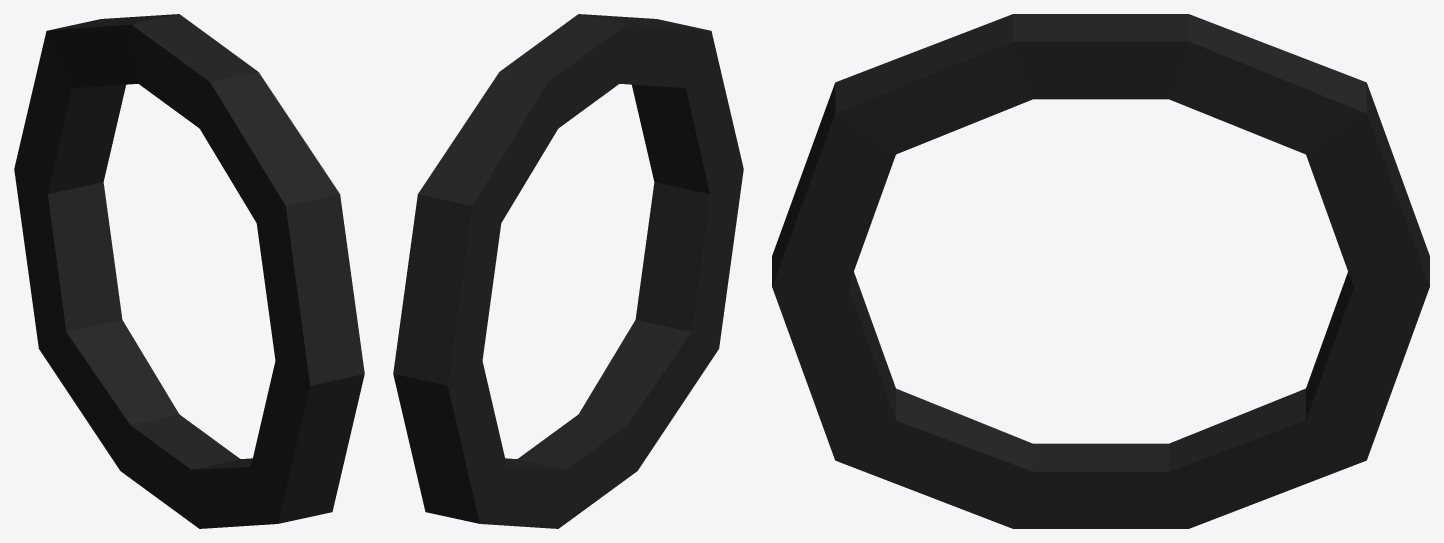
Rendered from Lamp Overlay Metal.obj.
3 views of the same model, side by side, from view 1: azimuth 30°, elevation 25°; view 2: azimuth 150°, elevation 25°; view 3: azimuth 270°, elevation 25° (orthographic). The views are drawn at different scales.
Parts seen in each view (by area): view 1: Overlay_Metal; view 2: Overlay_Metal; view 3: Overlay_Metal.
Part boxes in pixels (x1=…): Overlay_Metal: x1=14, y1=14, x2=364, y2=528; Overlay_Metal: x1=393, y1=14, x2=743, y2=528; Overlay_Metal: x1=772, y1=14, x2=1429, y2=528.
Size of the model in its own units: 0.0126 by 0.0867 by 0.1044.
